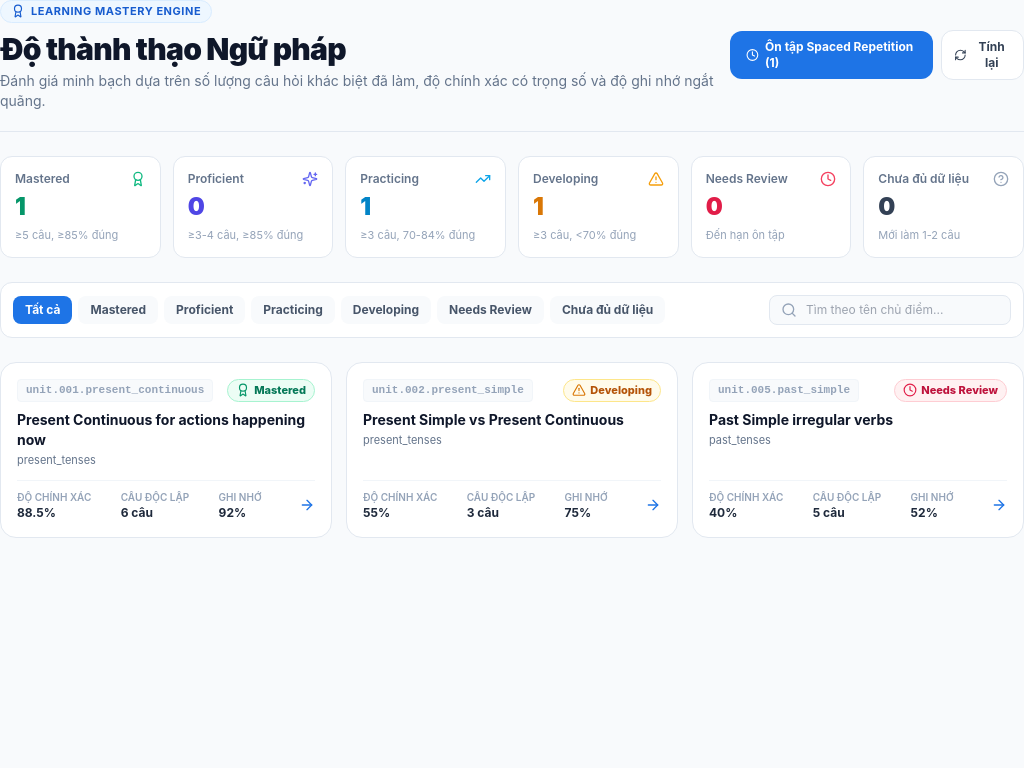
it: Phase 3.2: Learning Mastery Engine & Personalized Learning Frontend UI › 3. MasteryPage opens Explainability Modal on concept card click
Click the heading "Present Continuous for actions happening now": click(166, 430) [17, 410, 315, 450]
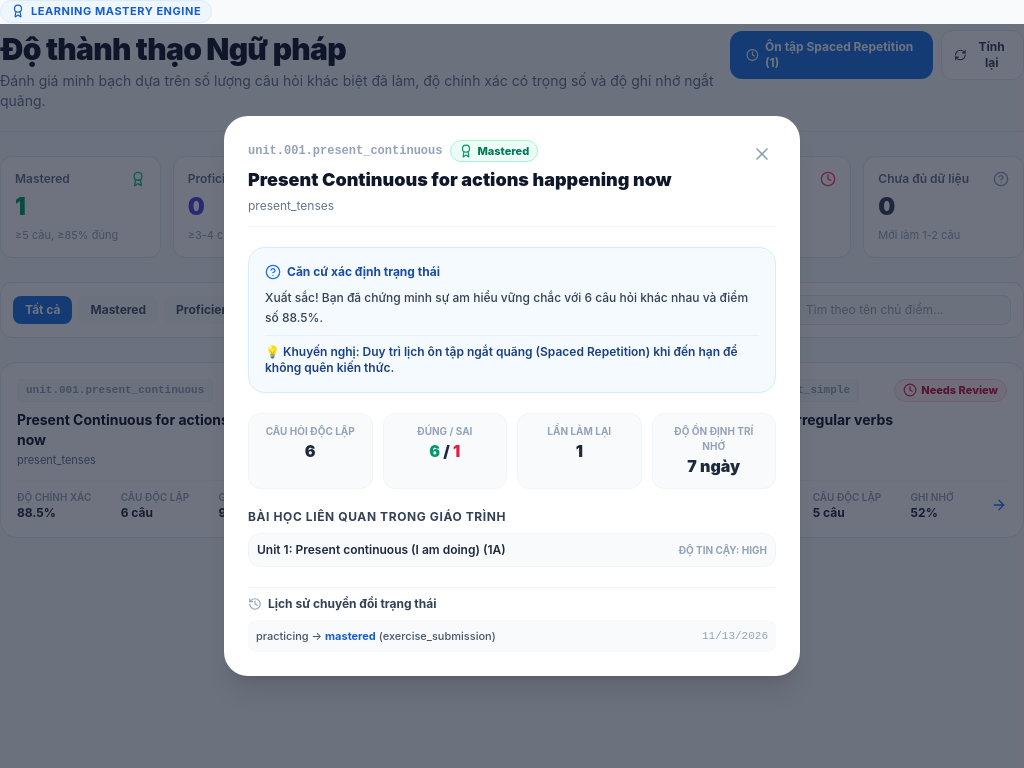
Result: the text "Căn cứ xác định trạng thái" is shown at [287, 264, 440, 280]
Result: the text "Xuất sắc! Bạn đã chứng minh sự am hiểu vững chắc" is shown at [265, 290, 748, 325]
Result: the text "7 ngày" is shown at [687, 456, 740, 476]
